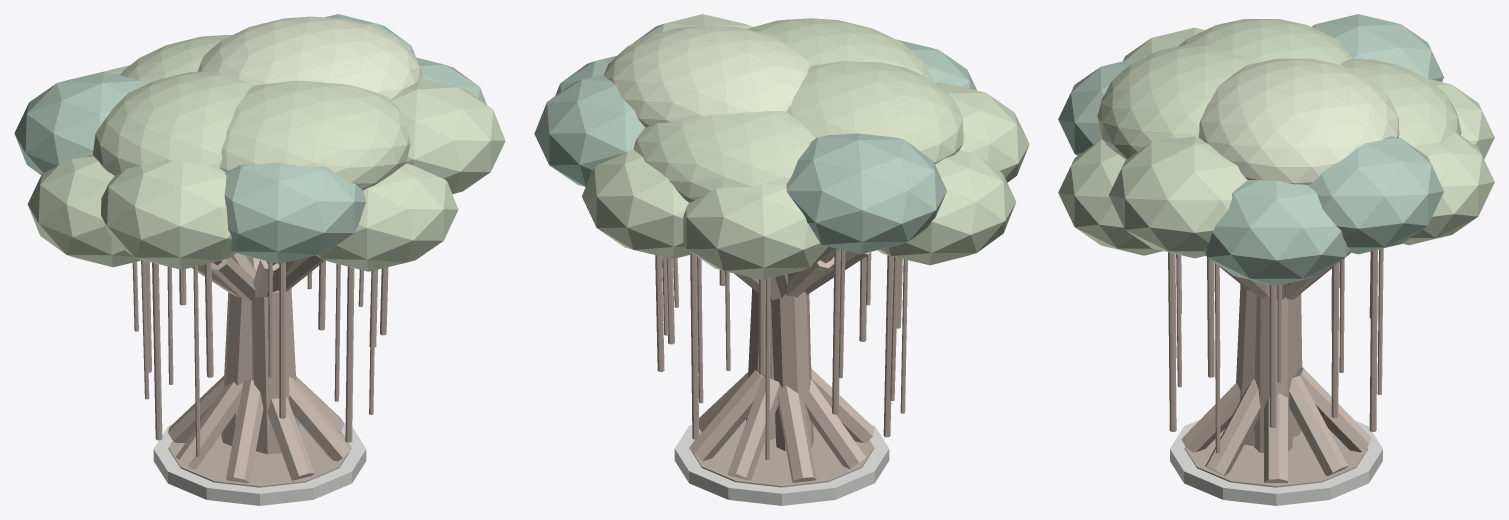
The model's file is prop-tree-banyan.glb.
3 views of the same model, side by side, from view 1: azimuth 30°, elevation 25°; view 2: azimuth 150°, elevation 25°; view 3: azimuth 270°, elevation 25° (orthographic).
Parts seen in each view (by area): view 1: tube_1, surround_0; view 2: tube_1, surround_0; view 3: tube_1, surround_0.
Boxes of the visible parts, x1,y1,x2,y2 form: tube_1: [14, 14, 505, 487]; surround_0: [153, 423, 366, 505]; tube_1: [534, 14, 1029, 487]; surround_0: [674, 424, 889, 505]; tube_1: [1058, 14, 1494, 487]; surround_0: [1170, 419, 1382, 505].
Bounding box in the file's own units: 3.46 × 3.04 × 2.95.
2 materials, 2 textured.
